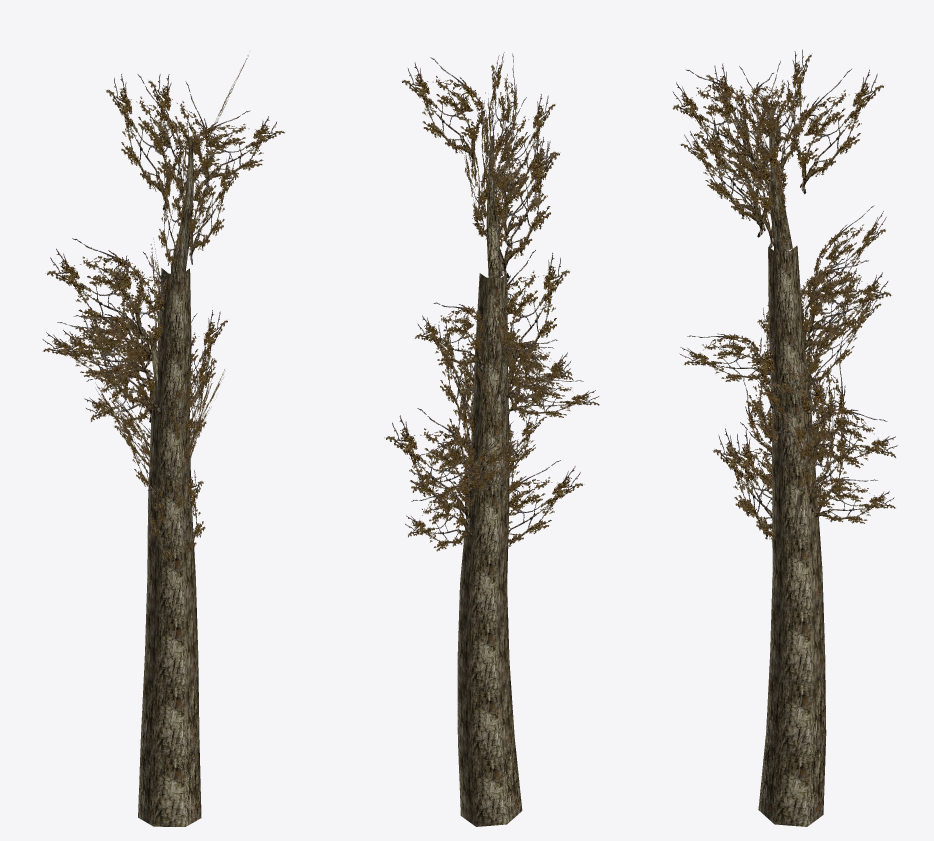
File: dh_twig_lod1.glb
3 renders of one model, left to right at view 1: azimuth 30°, elevation 25°; view 2: azimuth 150°, elevation 25°; view 3: azimuth 270°, elevation 25°, orthographic. The views are drawn at different scales.
Visible parts, largest first — view 1: dh_twig_lod1; view 2: dh_twig_lod1; view 3: dh_twig_lod1.
Part boxes in pixels (left/top/right/bottom): dh_twig_lod1: left=42, top=55, right=284, bottom=826; dh_twig_lod1: left=384, top=52, right=599, bottom=826; dh_twig_lod1: left=672, top=49, right=897, bottom=826.
Size of the model in its own units: 10.18 by 33.87 by 10.2.
Materials: 2 (2 with a texture image).
